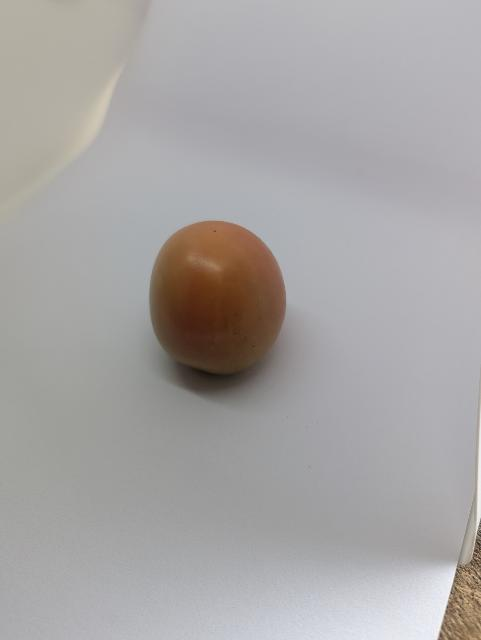turning: (146, 209, 293, 384)
